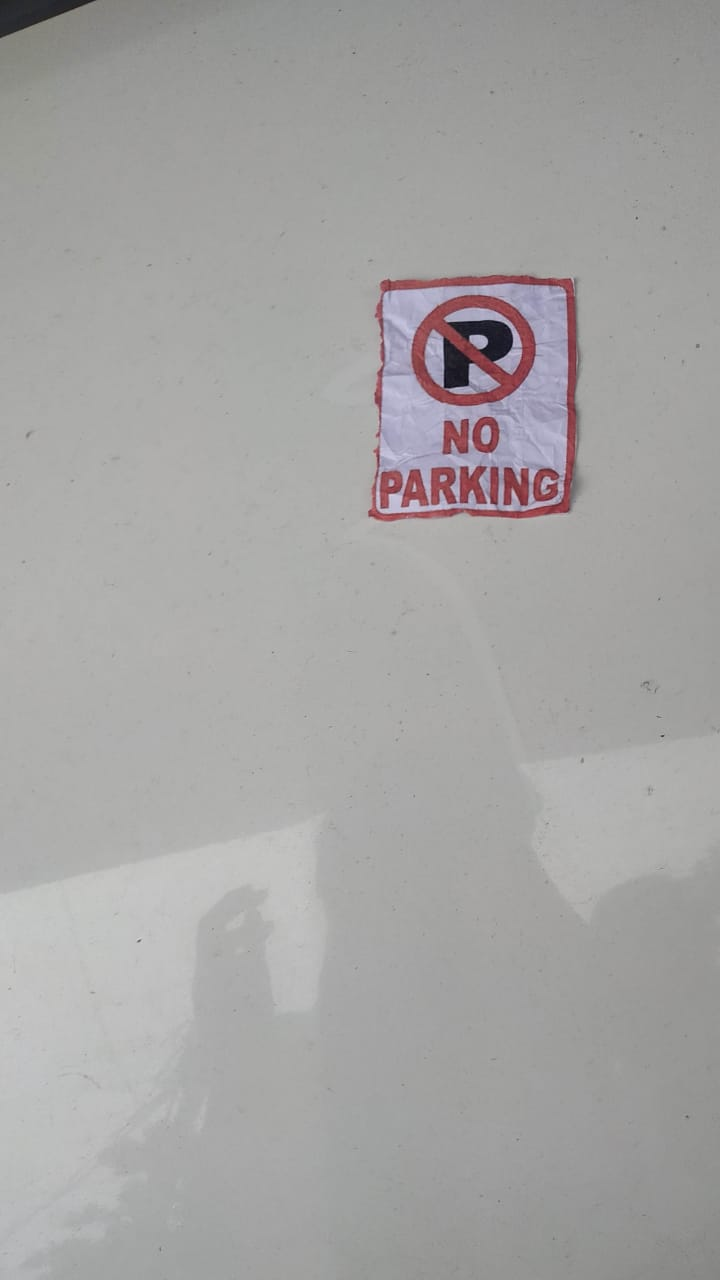NO PARKING: (367, 271, 600, 519)
